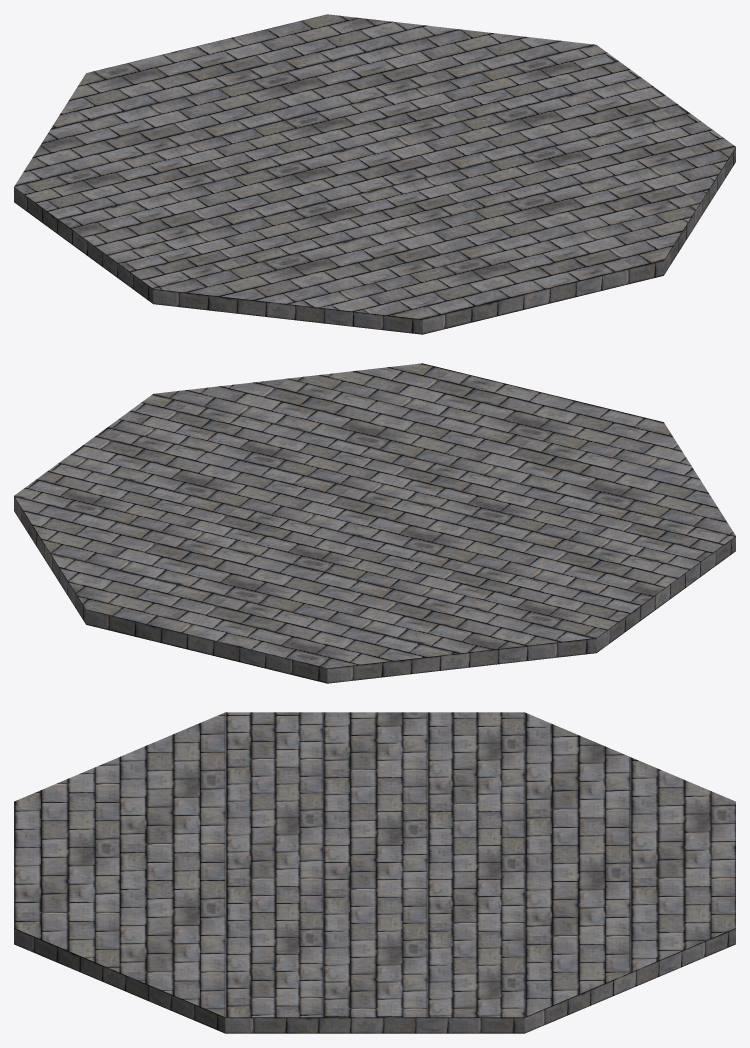
Rendered from sanctum_floor_01.glb.
3 renders of one model, top to bottom at view 1: azimuth 30°, elevation 25°; view 2: azimuth 150°, elevation 25°; view 3: azimuth 270°, elevation 25°, orthographic. The views are drawn at different scales.
Parts seen in each view (by area): view 1: sanctum_floor_01; view 2: sanctum_floor_01; view 3: sanctum_floor_01.
Part boxes in pixels (x1,y1,x2,y2): sanctum_floor_01: (14, 14, 735, 334); sanctum_floor_01: (14, 363, 735, 683); sanctum_floor_01: (14, 712, 735, 1033).
Size of the model in its own units: 40 by 1 by 40.
Materials: 1 (1 with a texture image).
